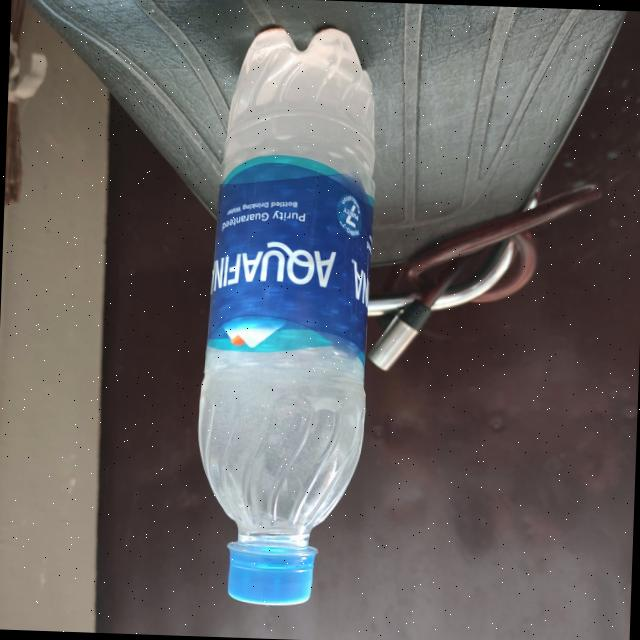bottle: (185, 14, 372, 614)
cap: (218, 530, 314, 610)
label: (204, 157, 370, 350)
